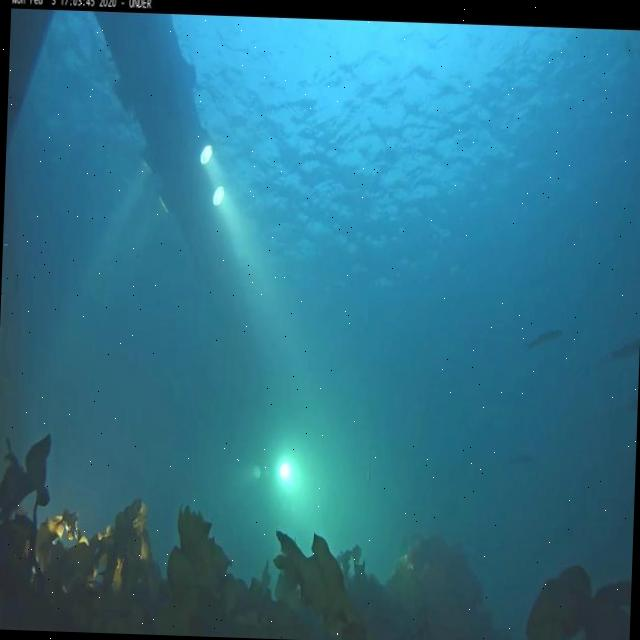fish: (604, 333, 638, 371), (526, 328, 563, 352), (504, 448, 534, 470), (364, 463, 370, 482)
